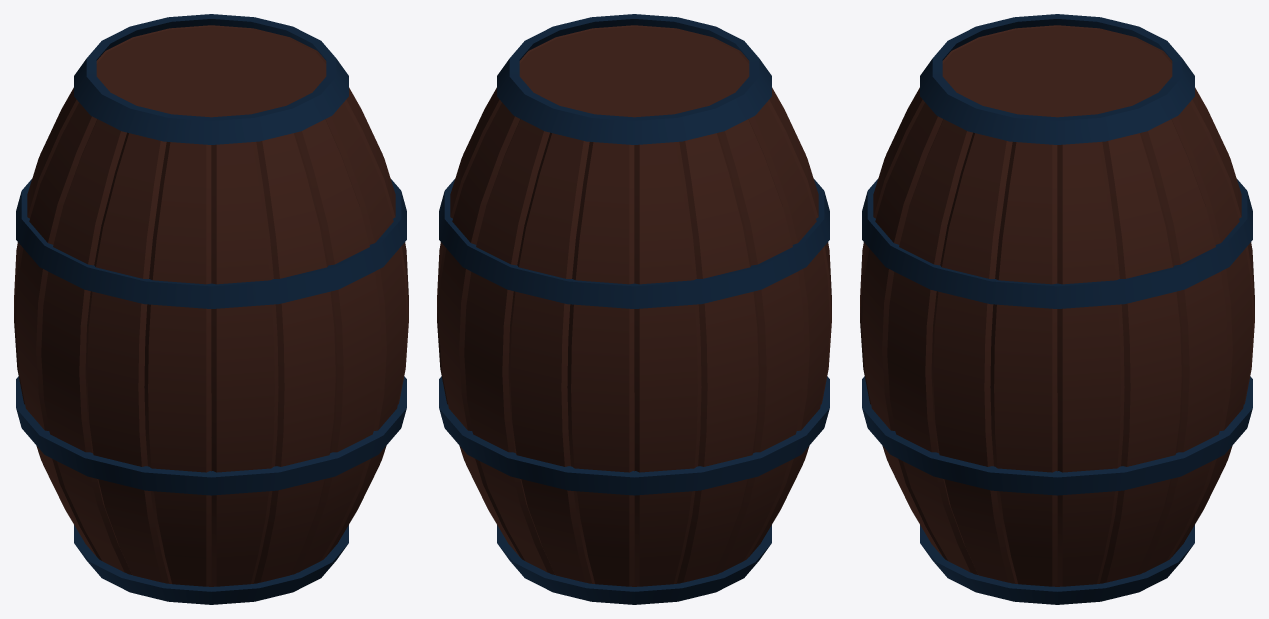
Rendered from barrel.FBX.
The picture shows the model from 3 angles, left to right: view 1: azimuth 30°, elevation 25°; view 2: azimuth 150°, elevation 25°; view 3: azimuth 270°, elevation 25°; orthographic projection.
Visible parts, largest first — view 1: barrel; view 2: barrel; view 3: barrel.
Boxes of the visible parts, x1,y1,x2,y2 form: barrel: (14,14,408,604); barrel: (437,14,831,604); barrel: (860,14,1254,604).
Bounding box in the file's own units: 96.97 × 130 × 95.93.
